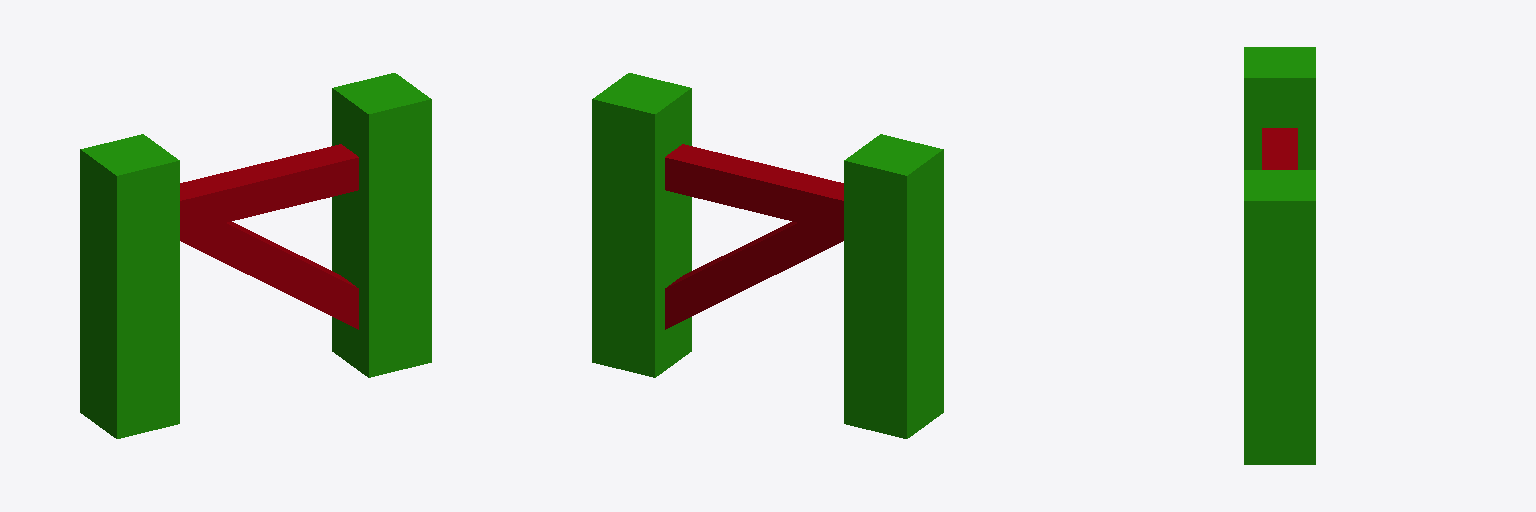
Rendered from doors_fence_gate_closed.obj.
3 views of the same model, side by side, from view 1: azimuth 30°, elevation 25°; view 2: azimuth 150°, elevation 25°; view 3: azimuth 270°, elevation 25° (orthographic).
Parts seen in each view (by area): view 1: Cube_Cube.001; view 2: Cube_Cube.001; view 3: Cube_Cube.001.
Boxes of the visible parts, x1=… form: Cube_Cube.001: x1=80, y1=73, x2=431, y2=438; Cube_Cube.001: x1=592, y1=73, x2=943, y2=438; Cube_Cube.001: x1=1244, y1=47, x2=1315, y2=464.
Bounding box in the file's own units: 1.25 × 1 × 0.25.